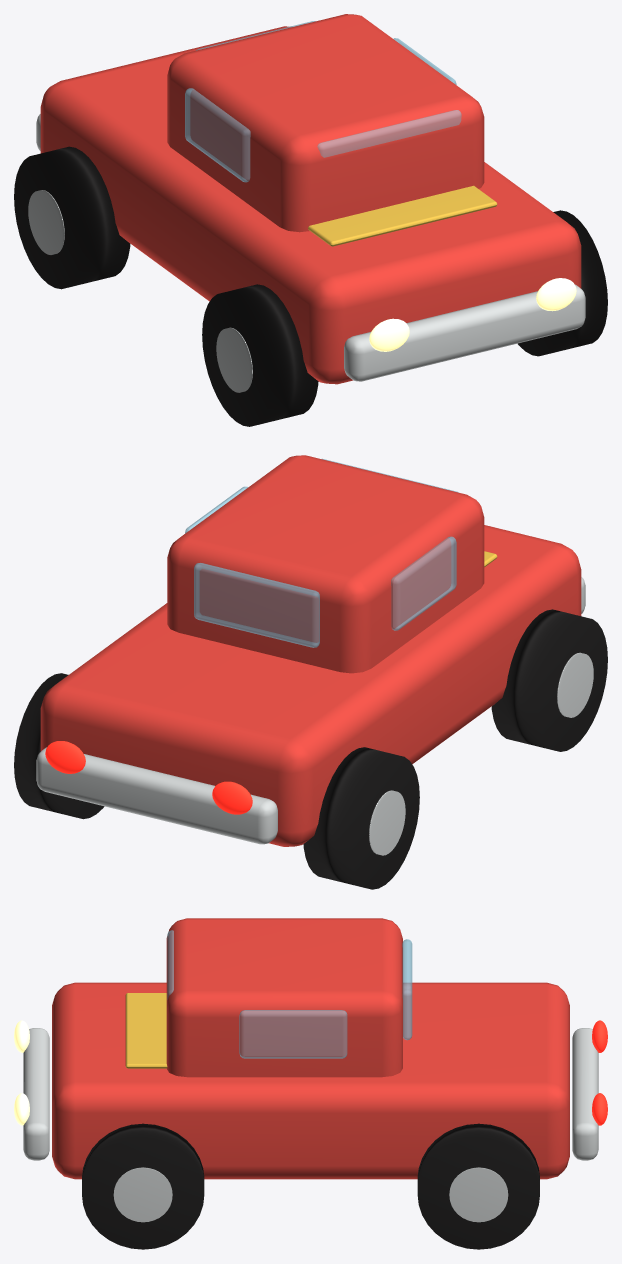
Rendered from cartoon_small_car.glb.
3 views of the same model, one above another, from view 1: azimuth 30°, elevation 25°; view 2: azimuth 150°, elevation 25°; view 3: azimuth 270°, elevation 25° (orthographic). The views are drawn at different scales.
Visible parts, largest first — view 1: car_body_main, car_body_cabin, car_wheel_FL_tire, car_wheel_RL_tire, car_bumper_front, car_body_hood_highlight, car_window_left, car_wheel_FR_tire, car_window_windshield, car_wheel_FL_hubcap_inner, car_wheel_RL_hubcap_inner, car_light_head_L (+1 smaller); view 2: car_body_main, car_body_cabin, car_wheel_FL_tire, car_wheel_RL_tire, car_bumper_rear, car_window_rear, car_window_left, car_wheel_RR_tire, car_wheel_RL_hubcap_inner, car_wheel_FL_hubcap_inner, car_light_tail_L, car_light_tail_R; view 3: car_body_main, car_body_cabin, car_wheel_FR_tire, car_wheel_RR_tire, car_window_right, car_bumper_front, car_bumper_rear, car_body_hood_highlight, car_wheel_FR_hubcap_inner, car_wheel_RR_hubcap_inner, car_window_rear, car_window_windshield.
Boxes of the visible parts, x1,y1,x2,y2 form: car_body_main: (40, 26, 581, 384); car_body_cabin: (167, 14, 484, 232); car_wheel_FL_tire: (202, 284, 318, 426); car_wheel_RL_tire: (14, 146, 130, 289); car_bumper_front: (344, 284, 585, 381); car_body_hood_highlight: (308, 185, 497, 246); car_window_left: (185, 88, 250, 182); car_wheel_FR_tire: (518, 210, 607, 356); car_window_windshield: (317, 110, 461, 157); car_wheel_FL_hubcap_inner: (216, 327, 252, 392); car_wheel_RL_hubcap_inner: (28, 190, 64, 254); car_light_head_L: (369, 318, 409, 351); car_body_main: (40, 525, 581, 846); car_body_cabin: (167, 455, 484, 673); car_wheel_FL_tire: (491, 609, 607, 751); car_wheel_RL_tire: (303, 747, 419, 889); car_bumper_rear: (36, 747, 277, 844); car_window_rear: (194, 563, 319, 647); car_window_left: (391, 536, 456, 630); car_wheel_RR_tire: (14, 673, 104, 819); car_wheel_RL_hubcap_inner: (369, 790, 405, 855); car_wheel_FL_hubcap_inner: (557, 652, 593, 717); car_light_tail_L: (212, 781, 252, 814); car_light_tail_R: (45, 741, 85, 773); car_body_main: (52, 982, 569, 1179); car_body_cabin: (166, 918, 402, 1077); car_wheel_FR_tire: (82, 1123, 204, 1249); car_wheel_RR_tire: (417, 1123, 539, 1249); car_window_right: (239, 1010, 347, 1058); car_bumper_front: (23, 1028, 49, 1160); car_bumper_rear: (572, 1028, 598, 1160); car_body_hood_highlight: (125, 993, 167, 1068); car_wheel_FR_hubcap_inner: (113, 1167, 172, 1222); car_wheel_RR_hubcap_inner: (449, 1167, 508, 1222); car_window_rear: (402, 939, 412, 1040); car_window_windshield: (167, 930, 173, 999).
Size of what is drawn, in the model's own units: 2.43 by 1.67 by 4.07.
